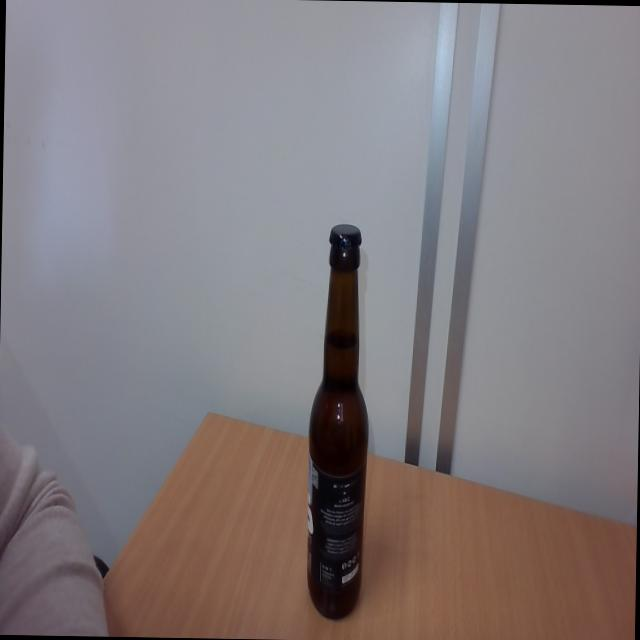Bottle: (304, 252, 372, 619)
Cap: (328, 222, 362, 250)
Label: (306, 464, 362, 586)
